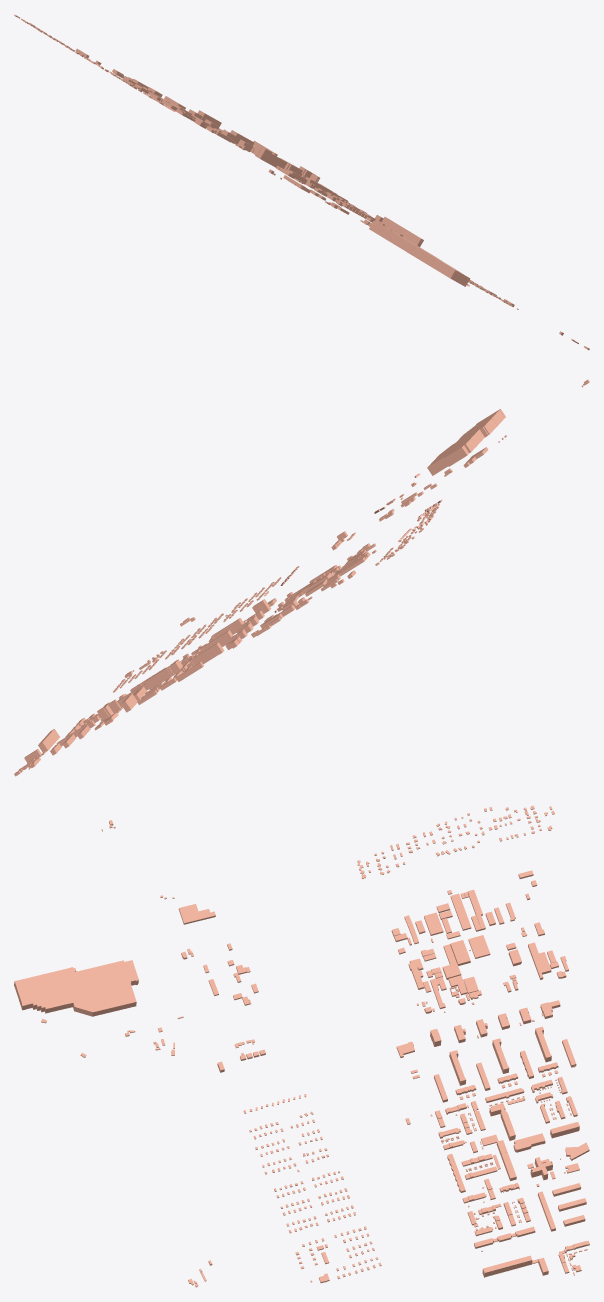
3 views of the same model, one above another, from view 1: azimuth 30°, elevation 25°; view 2: azimuth 150°, elevation 25°; view 3: azimuth 270°, elevation 25° (orthographic). The views are drawn at different scales.
Bounding box in the file's own units: 1014 × 742 × 1307.
